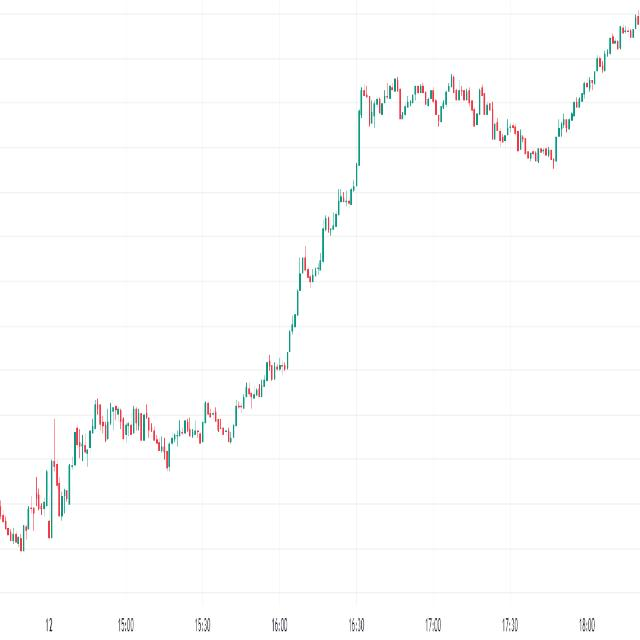rectangle: (357, 68, 496, 146), (89, 395, 154, 451)
